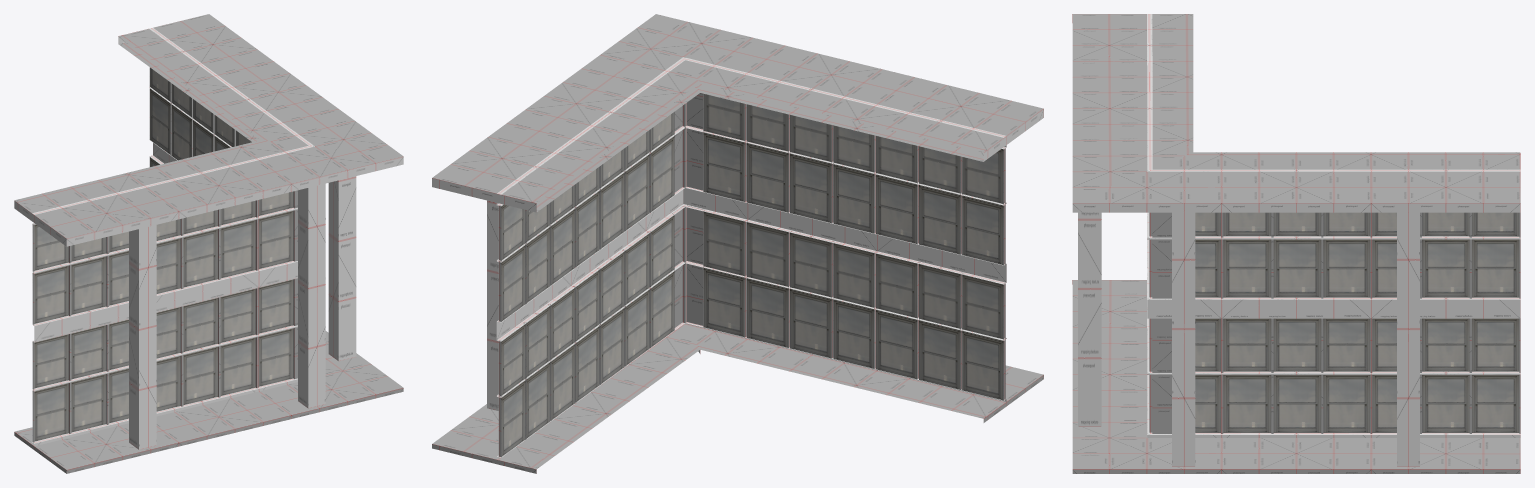
File: B_08_3x_b_cor.FBX
3 renders of one model, left to right at view 1: azimuth 30°, elevation 25°; view 2: azimuth 150°, elevation 25°; view 3: azimuth 270°, elevation 25°, orthographic. The views are drawn at different scales.
Parts seen in each view (by area): view 1: B_09_3x_b_cor; view 2: B_09_3x_b_cor; view 3: B_09_3x_b_cor.
Boxes of the visible parts, x1,y1,x2,y2 form: B_09_3x_b_cor: (14,14,403,473); B_09_3x_b_cor: (432,14,1043,473); B_09_3x_b_cor: (1072,14,1520,473).
Size of the model in its own units: 60.01 by 60.01 by 40.
